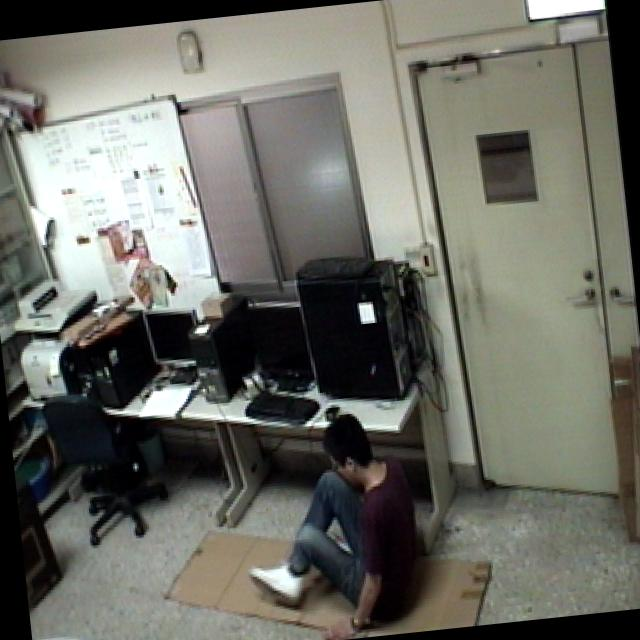sit: (227, 403, 436, 640)
